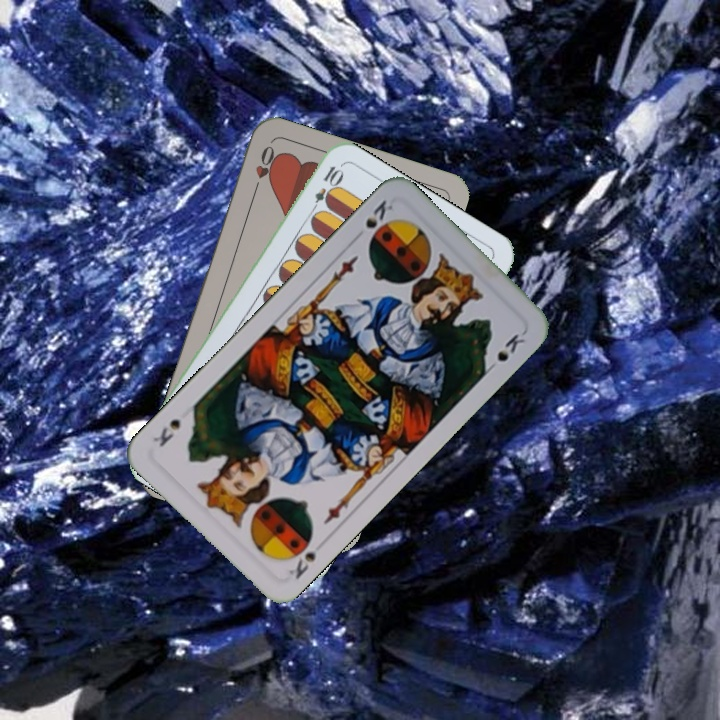E10: (306, 161, 345, 218)
HO: (249, 141, 279, 198)
SK: (361, 195, 396, 231), (285, 548, 319, 582)
